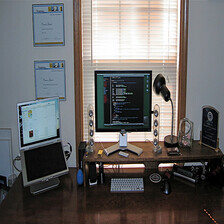laptop: (7, 96, 72, 185)
